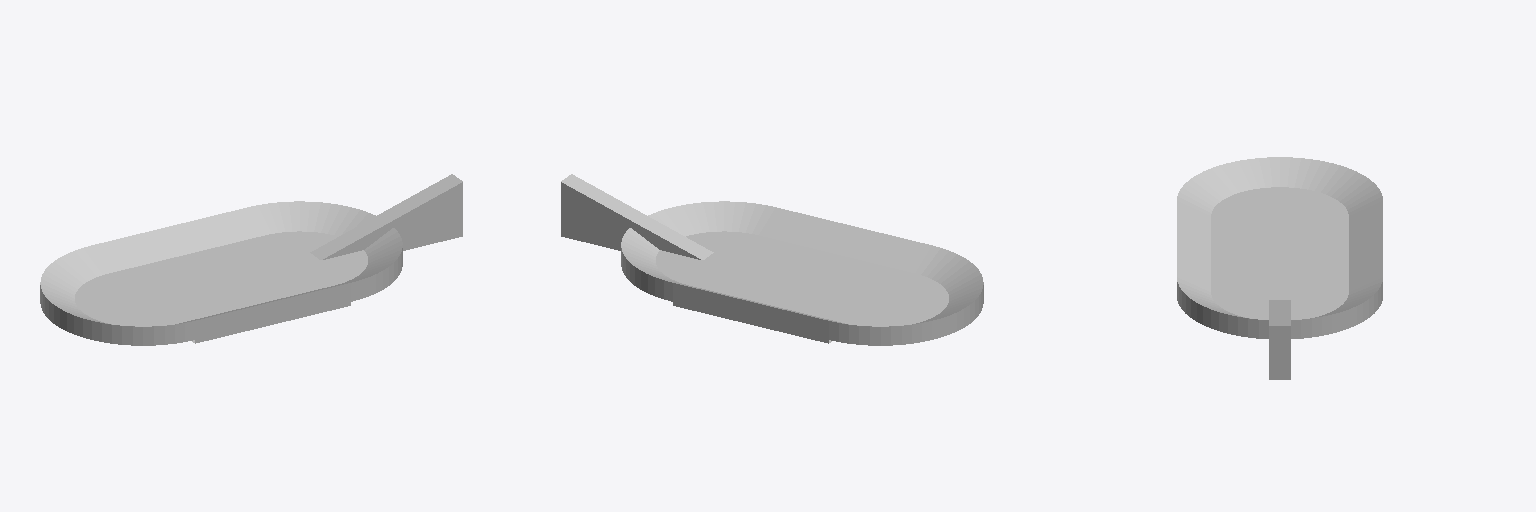
File: airport.obj
3 renders of one model, left to right at view 1: azimuth 30°, elevation 25°; view 2: azimuth 150°, elevation 25°; view 3: azimuth 270°, elevation 25°, orthographic.
Visible parts, largest first — view 1: Cylinder01, Box01; view 2: Cylinder01, Box01; view 3: Cylinder01, Box01.
Boxes of the visible parts, x1=… form: Cylinder01: x1=40, y1=201, x2=402, y2=345; Box01: x1=310, y1=174, x2=462, y2=259; Cylinder01: x1=621, y1=201, x2=983, y2=345; Box01: x1=561, y1=174, x2=713, y2=259; Cylinder01: x1=1177, y1=157, x2=1382, y2=338; Box01: x1=1269, y1=300, x2=1290, y2=379.
Size of the model in its own units: 2711922 by 371887 by 1200000.